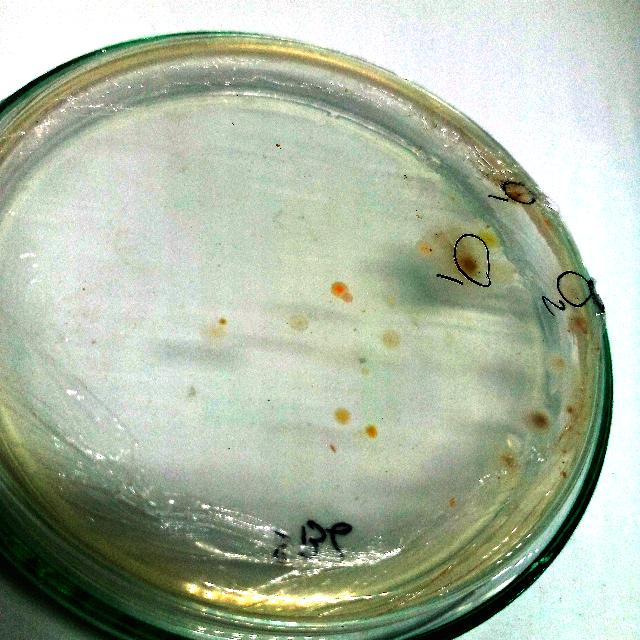colony: (458, 254, 482, 278), (526, 409, 550, 431), (377, 328, 401, 348), (498, 450, 520, 470), (334, 406, 354, 426), (329, 280, 348, 298), (478, 230, 496, 248), (504, 188, 524, 204), (363, 422, 381, 438), (570, 315, 588, 331), (215, 314, 229, 332), (562, 402, 578, 416), (340, 292, 354, 304)
